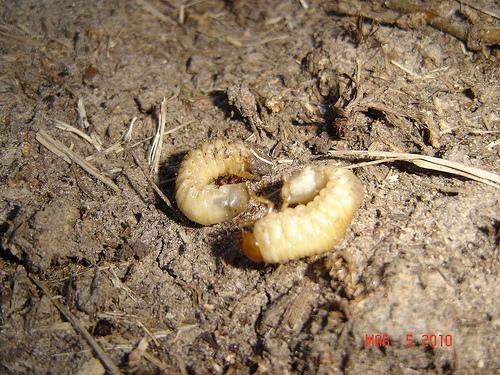grub: (171, 135, 254, 227)
